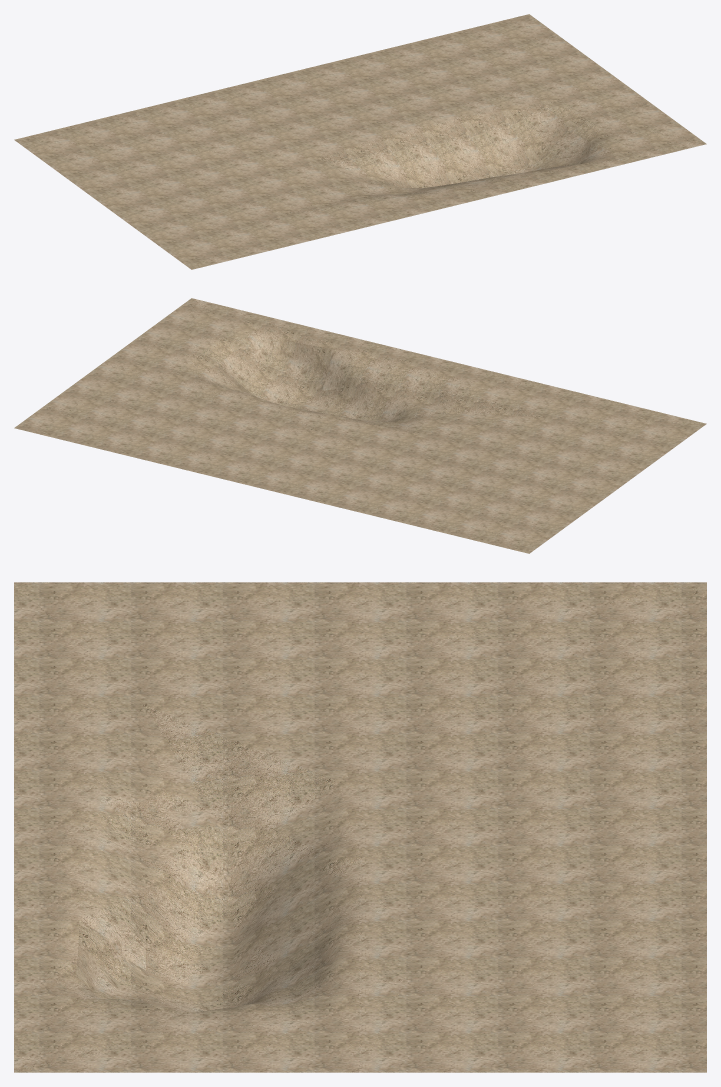
The model's file is park_ground.FBX.
3 renders of one model, top to bottom at view 1: azimuth 30°, elevation 25°; view 2: azimuth 150°, elevation 25°; view 3: azimuth 270°, elevation 25°, orthographic. The views are drawn at different scales.
Parts seen in each view (by area): view 1: Group10902; view 2: Group10902; view 3: Group10902.
Part boxes in pixels (x1=…): Group10902: x1=14, y1=14, x2=706, y2=269; Group10902: x1=14, y1=298, x2=706, y2=553; Group10902: x1=14, y1=582, x2=706, y2=1072.
Size of the model in its own units: 93.18 by 6.21 by 55.65.
Materials: 1 (1 with a texture image).
